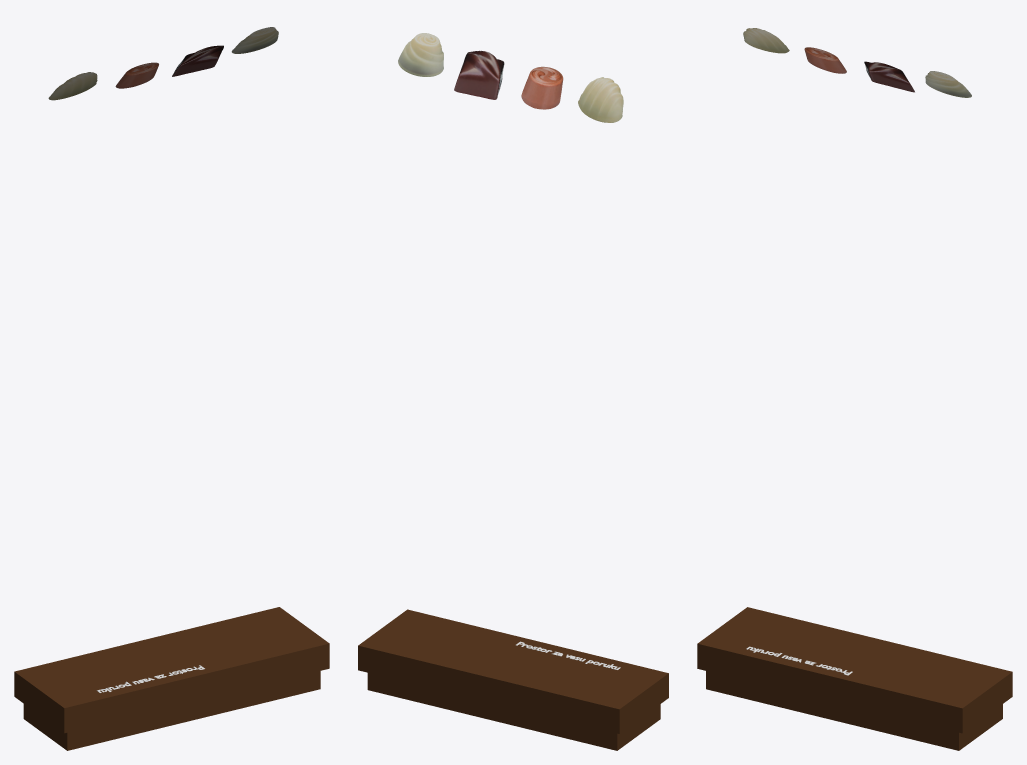
The model's file is aurorar.badb70b4.glb.
3 views of the same model, side by side, from view 1: azimuth 30°, elevation 25°; view 2: azimuth 150°, elevation 25°; view 3: azimuth 330°, elevation 25° (orthographic).
Parts seen in each view (by area): view 1: Cube.001, Cube, Plane.001, Plane.003, Plane, Plane.002; view 2: Cube.001, Cube, Plane.001, Plane.003, Plane, Plane.002; view 3: Cube.001, Cube, Plane.001, Plane.003, Plane, Plane.002.
Part boxes in pixels (x1,y1,x2,y2): Cube.001: (14,607,329,733); Cube: (23,671,320,750); Plane.001: (172,45,223,76); Plane.003: (48,72,97,100); Plane: (231,27,278,53); Plane.002: (115,62,158,88); Cube.001: (358,609,668,733); Cube: (367,673,660,750); Plane.001: (454,50,504,99); Plane.003: (578,77,623,122); Plane: (398,33,443,76); Plane.002: (521,66,563,109); Cube.001: (697,607,1012,733); Cube: (706,671,1002,750); Plane.001: (864,61,914,92); Plane.003: (743,28,789,53); Plane: (925,71,971,97); Plane.002: (804,47,846,73).
Bounding box in the file's own units: 24.09 × 57.86 × 7.88.
5 materials, 4 textured.
